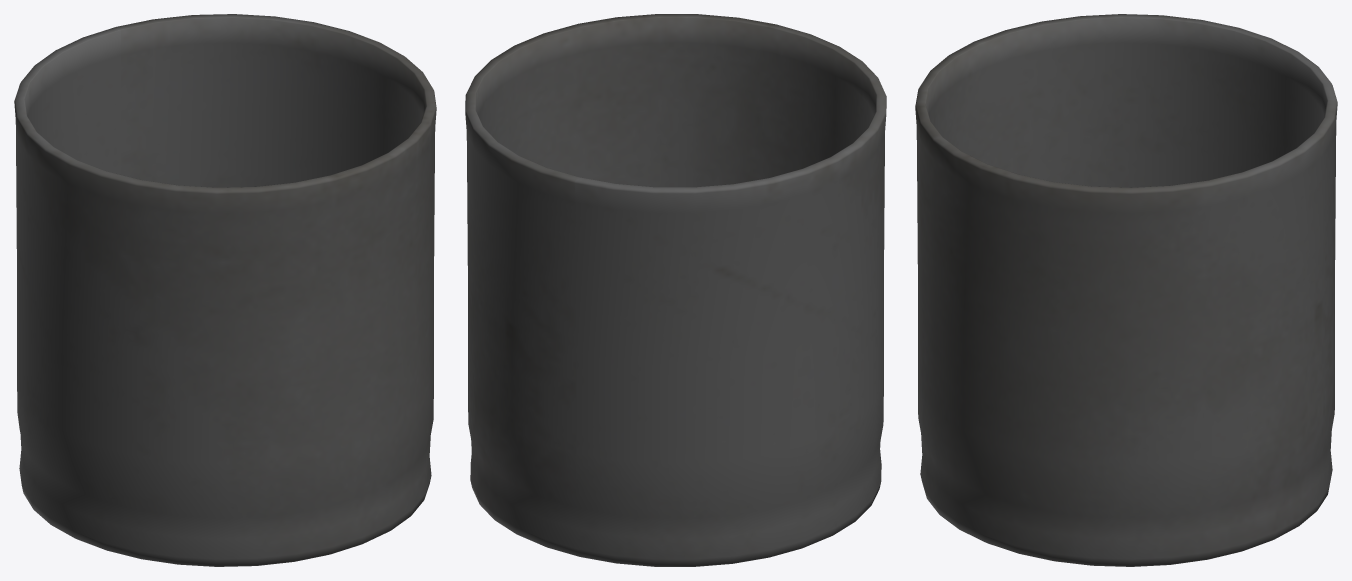
Rendered from Prop_Whiskey_Glass_x2.fbx.
3 views of the same model, side by side, from view 1: azimuth 30°, elevation 25°; view 2: azimuth 150°, elevation 25°; view 3: azimuth 270°, elevation 25° (orthographic).
Parts seen in each view (by area): view 1: Prop_Whiskey_Glass_x2; view 2: Prop_Whiskey_Glass_x2; view 3: Prop_Whiskey_Glass_x2.
Boxes of the visible parts, x1,y1,x2,y2 form: Prop_Whiskey_Glass_x2: [14, 14, 436, 566]; Prop_Whiskey_Glass_x2: [465, 14, 886, 566]; Prop_Whiskey_Glass_x2: [915, 14, 1337, 566].
Size of the model in its own units: 4.5 by 4.46 by 4.5.
